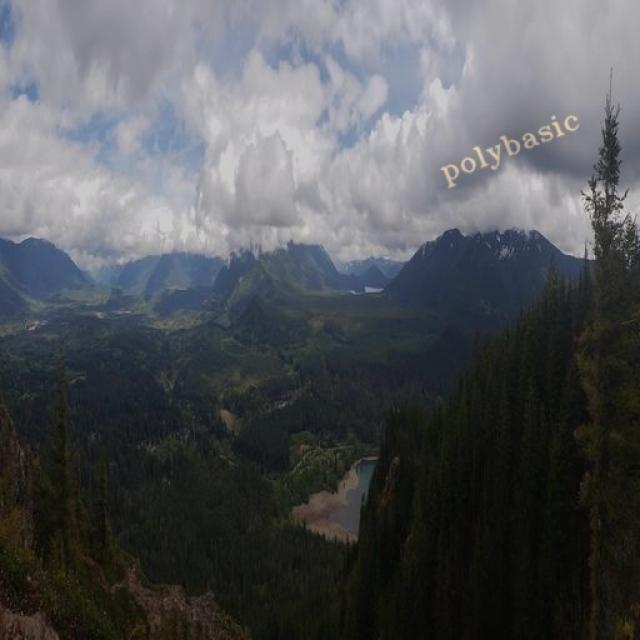watermark: (436, 104, 582, 186)
